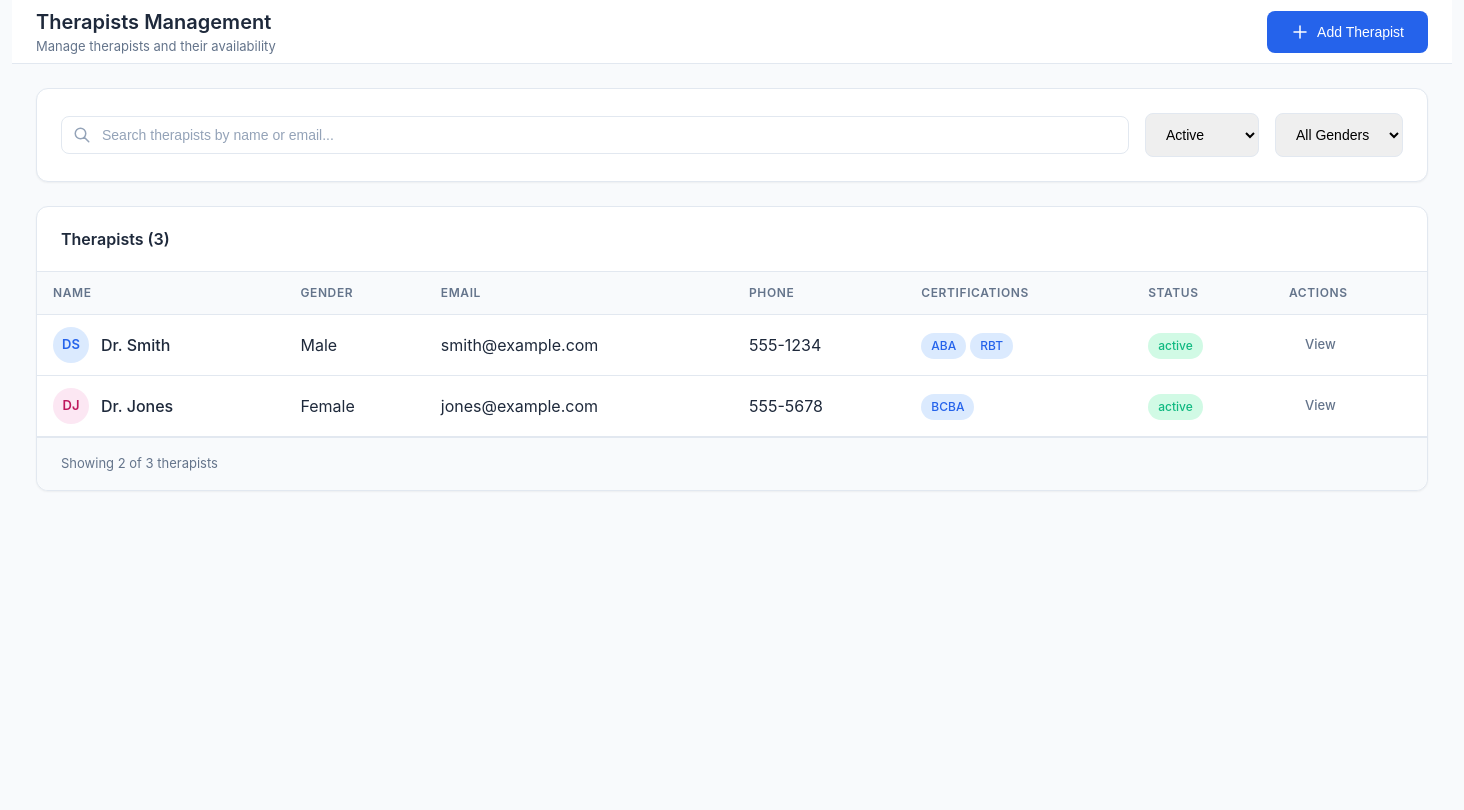
Scenario: StaffListPage › add staff modal › should have required form fields in add modal
Click the button "Add Therapist".
click(1348, 32)  # box [1267, 10, 1428, 52]
(page scrolled)
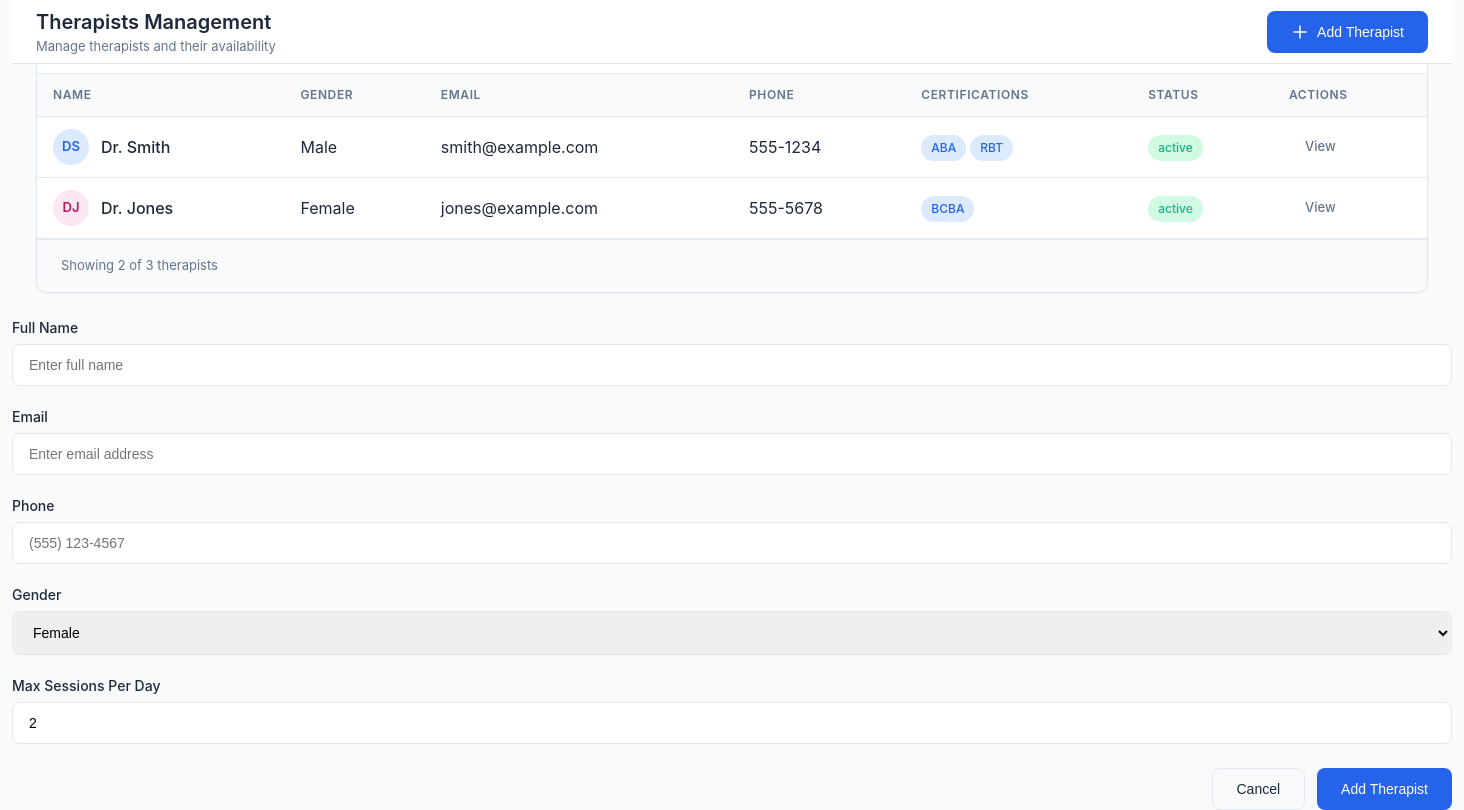
Expected: the field with id "name" is shown, [12, 344, 1452, 386]
Expected: the field with id "email" is shown, [12, 432, 1452, 474]
Expected: the dropdown with id "gender" is shown, [12, 610, 1452, 654]
